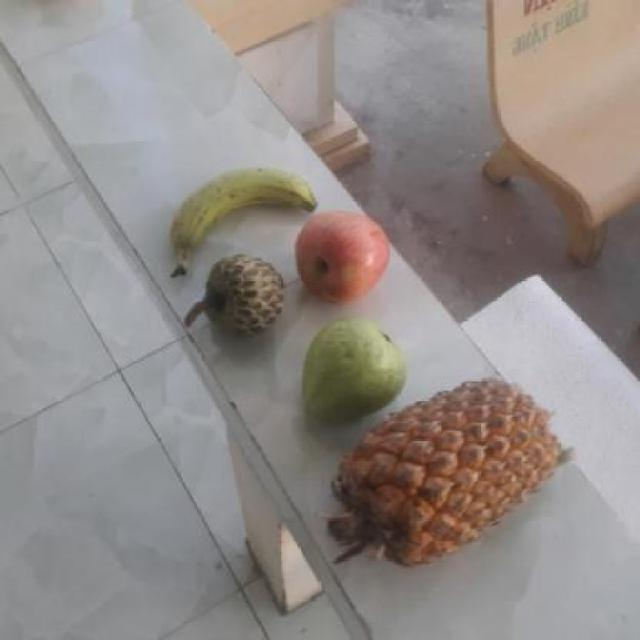apple: (295, 213, 393, 302)
banana: (169, 168, 329, 277)
guava: (302, 318, 410, 424)
pineapple: (334, 379, 565, 570)
sugar apple: (196, 254, 292, 337)
